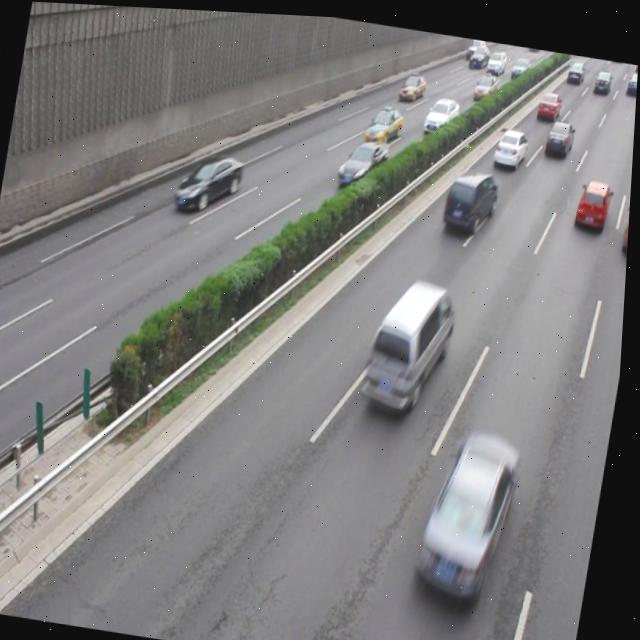car: (418, 418, 528, 599), (174, 146, 246, 215), (441, 158, 501, 232), (336, 132, 391, 187), (574, 169, 614, 225), (490, 120, 528, 167), (365, 99, 405, 140), (621, 191, 632, 251)
truck: (362, 269, 463, 414)
